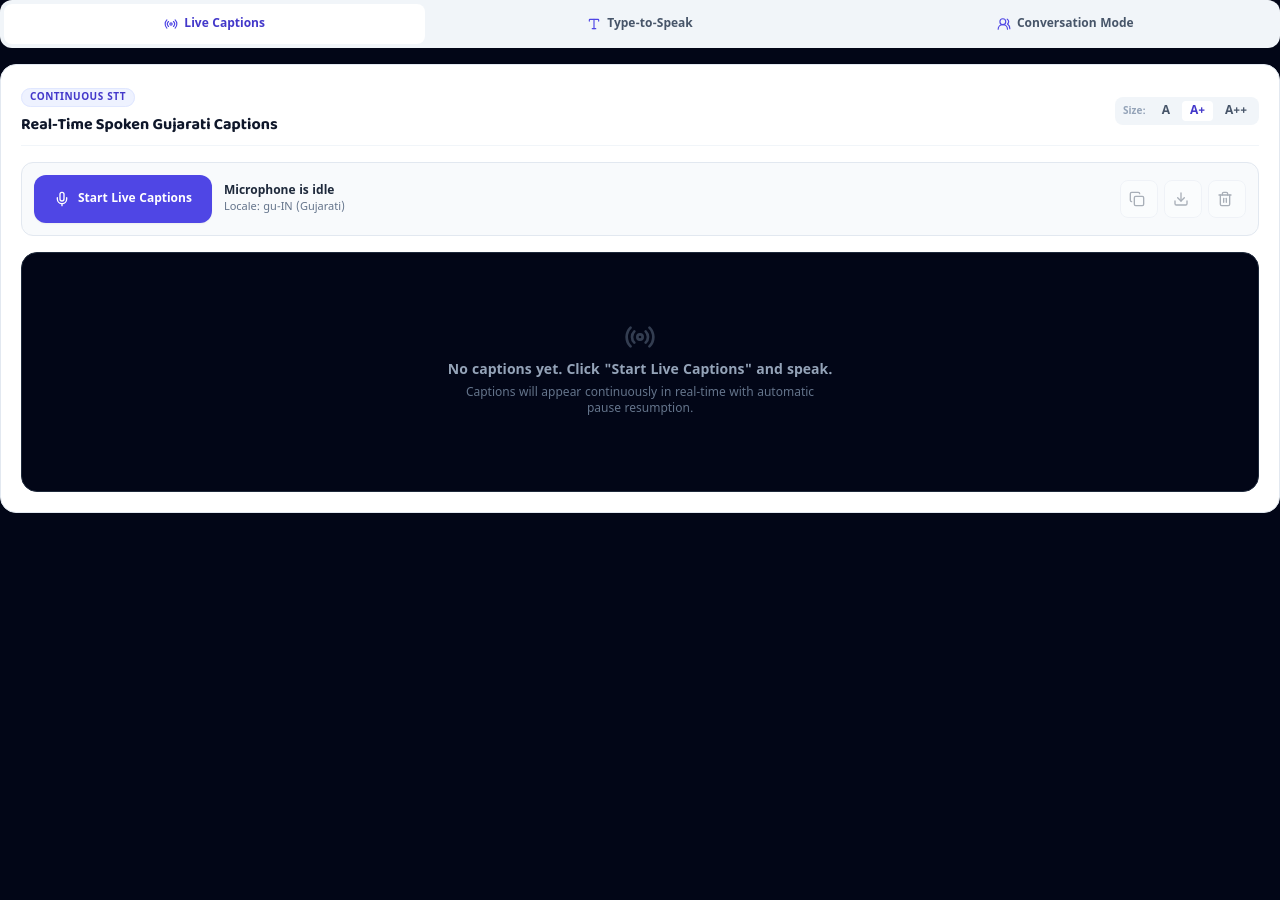
Test: VoiceTools component › allows switching to Conversation Mode, posts and speaks deaf-user response
// Switch to Conversation Mode
Click the tab "Conversation Mode" at (1065, 24), box [855,4,1276,44]
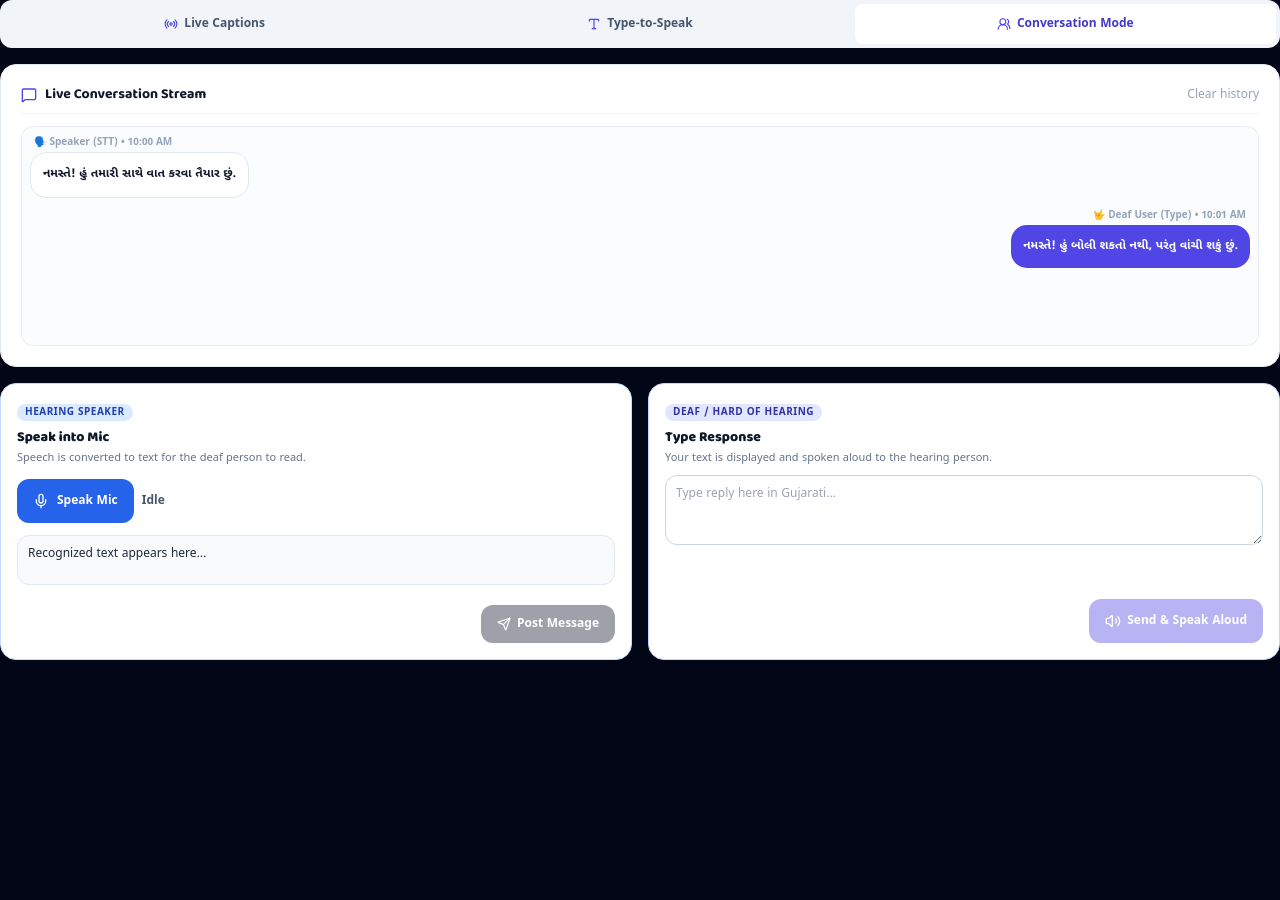
Result: the heading "Live Conversation Stream" is shown at [45,85,206,105]
Result: the text "Hearing Speaker" is shown at [17,404,133,421]
Result: the text "Deaf / Hard of Hearing" is shown at [665,404,822,421]
// Type deaf response
Type "હું બરાબર સમજી ગયો છું." into the text box with placeholder "Type reply here in Gujarati..." at (964, 510), box [665,474,1263,544]
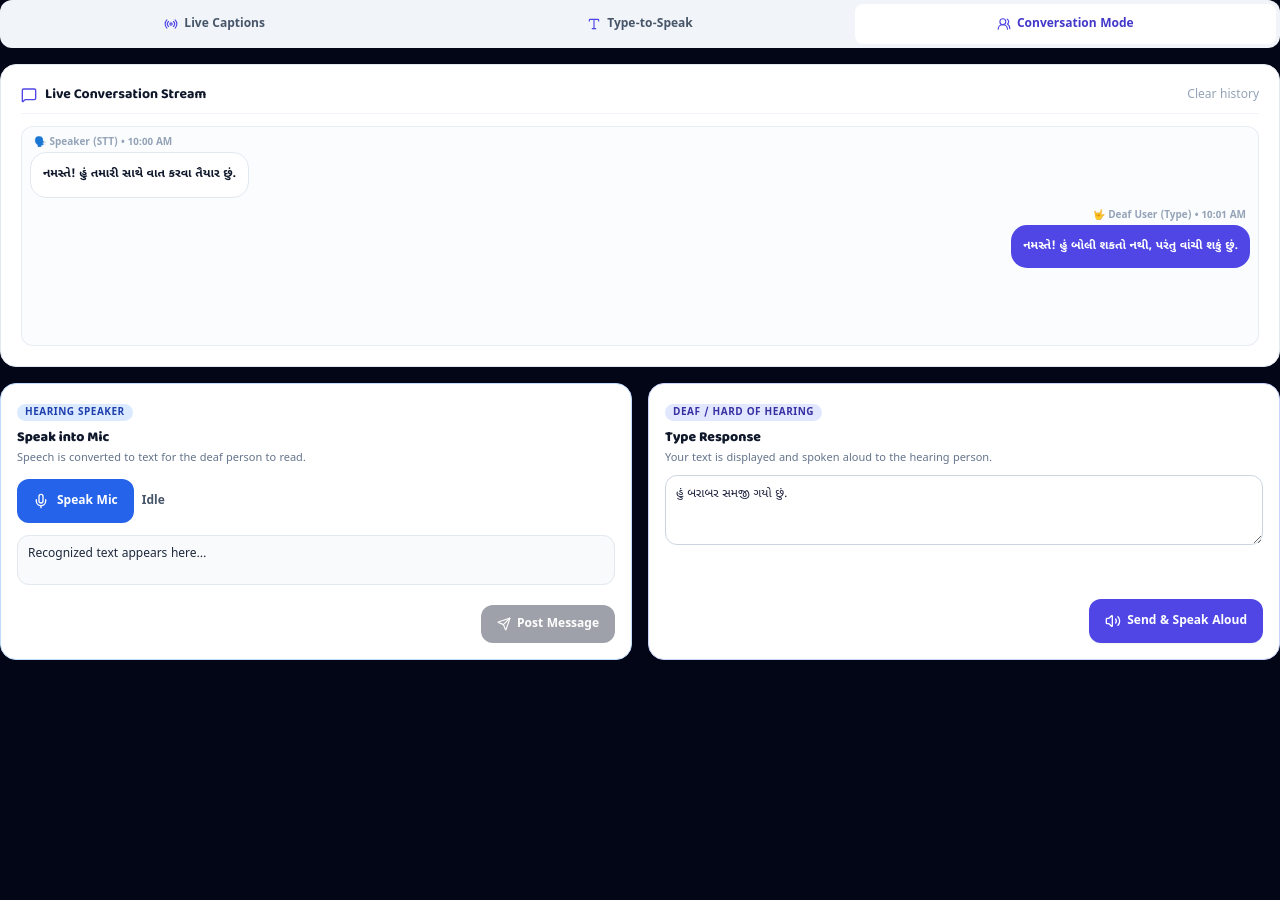
Click the button "Send & Speak Aloud" at (1176, 620), box [1089,598,1263,642]
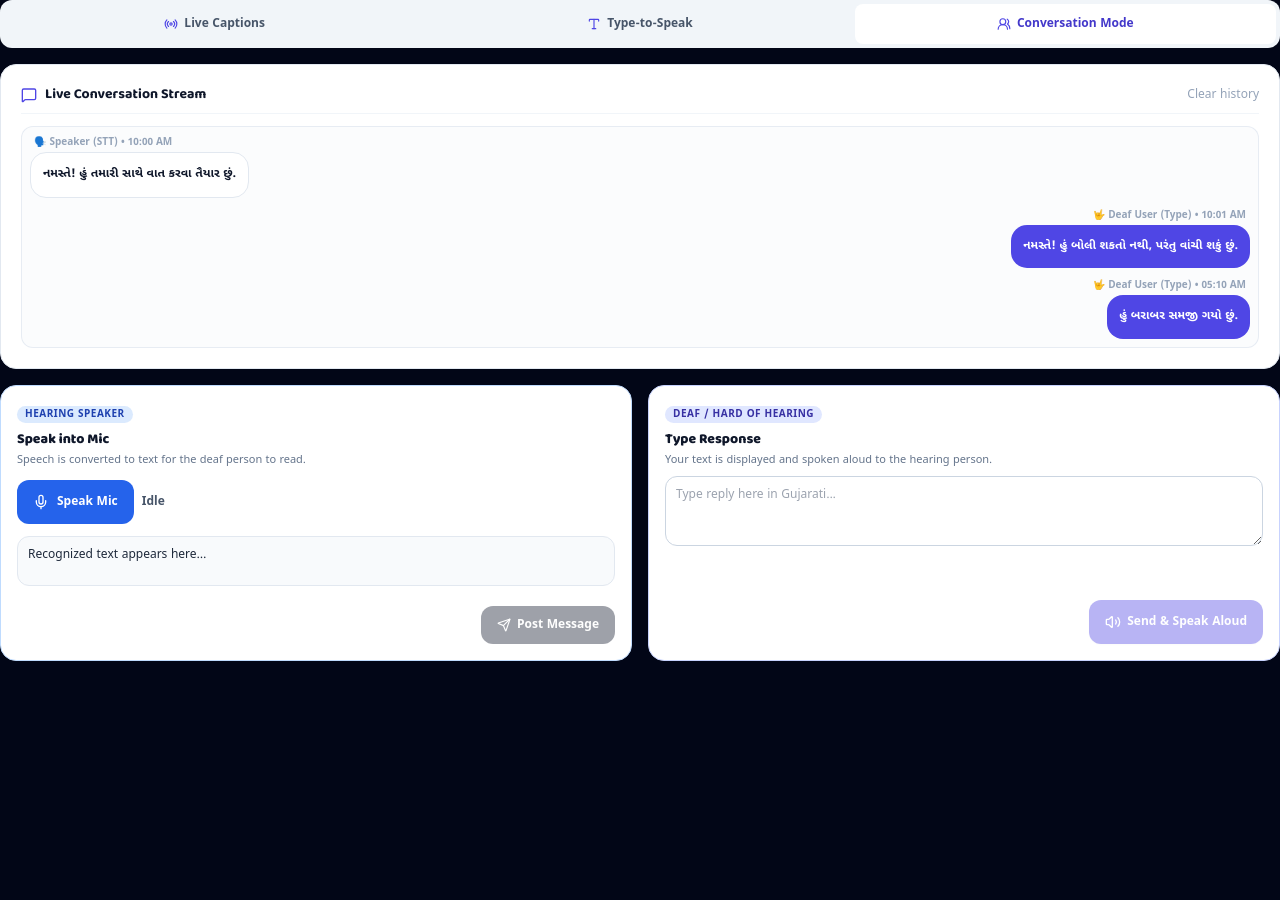
Result: the text "હું બરાબર સમજી ગયો છું." is shown at [1119,307,1238,326]
